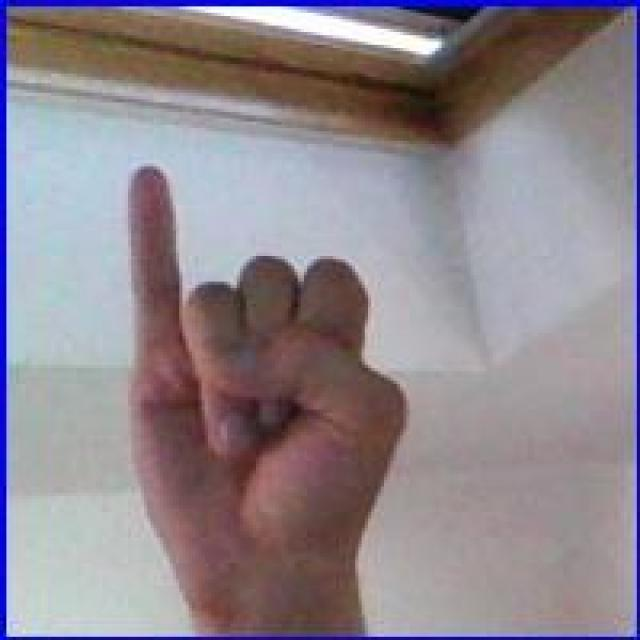I: (123, 160, 411, 634)
